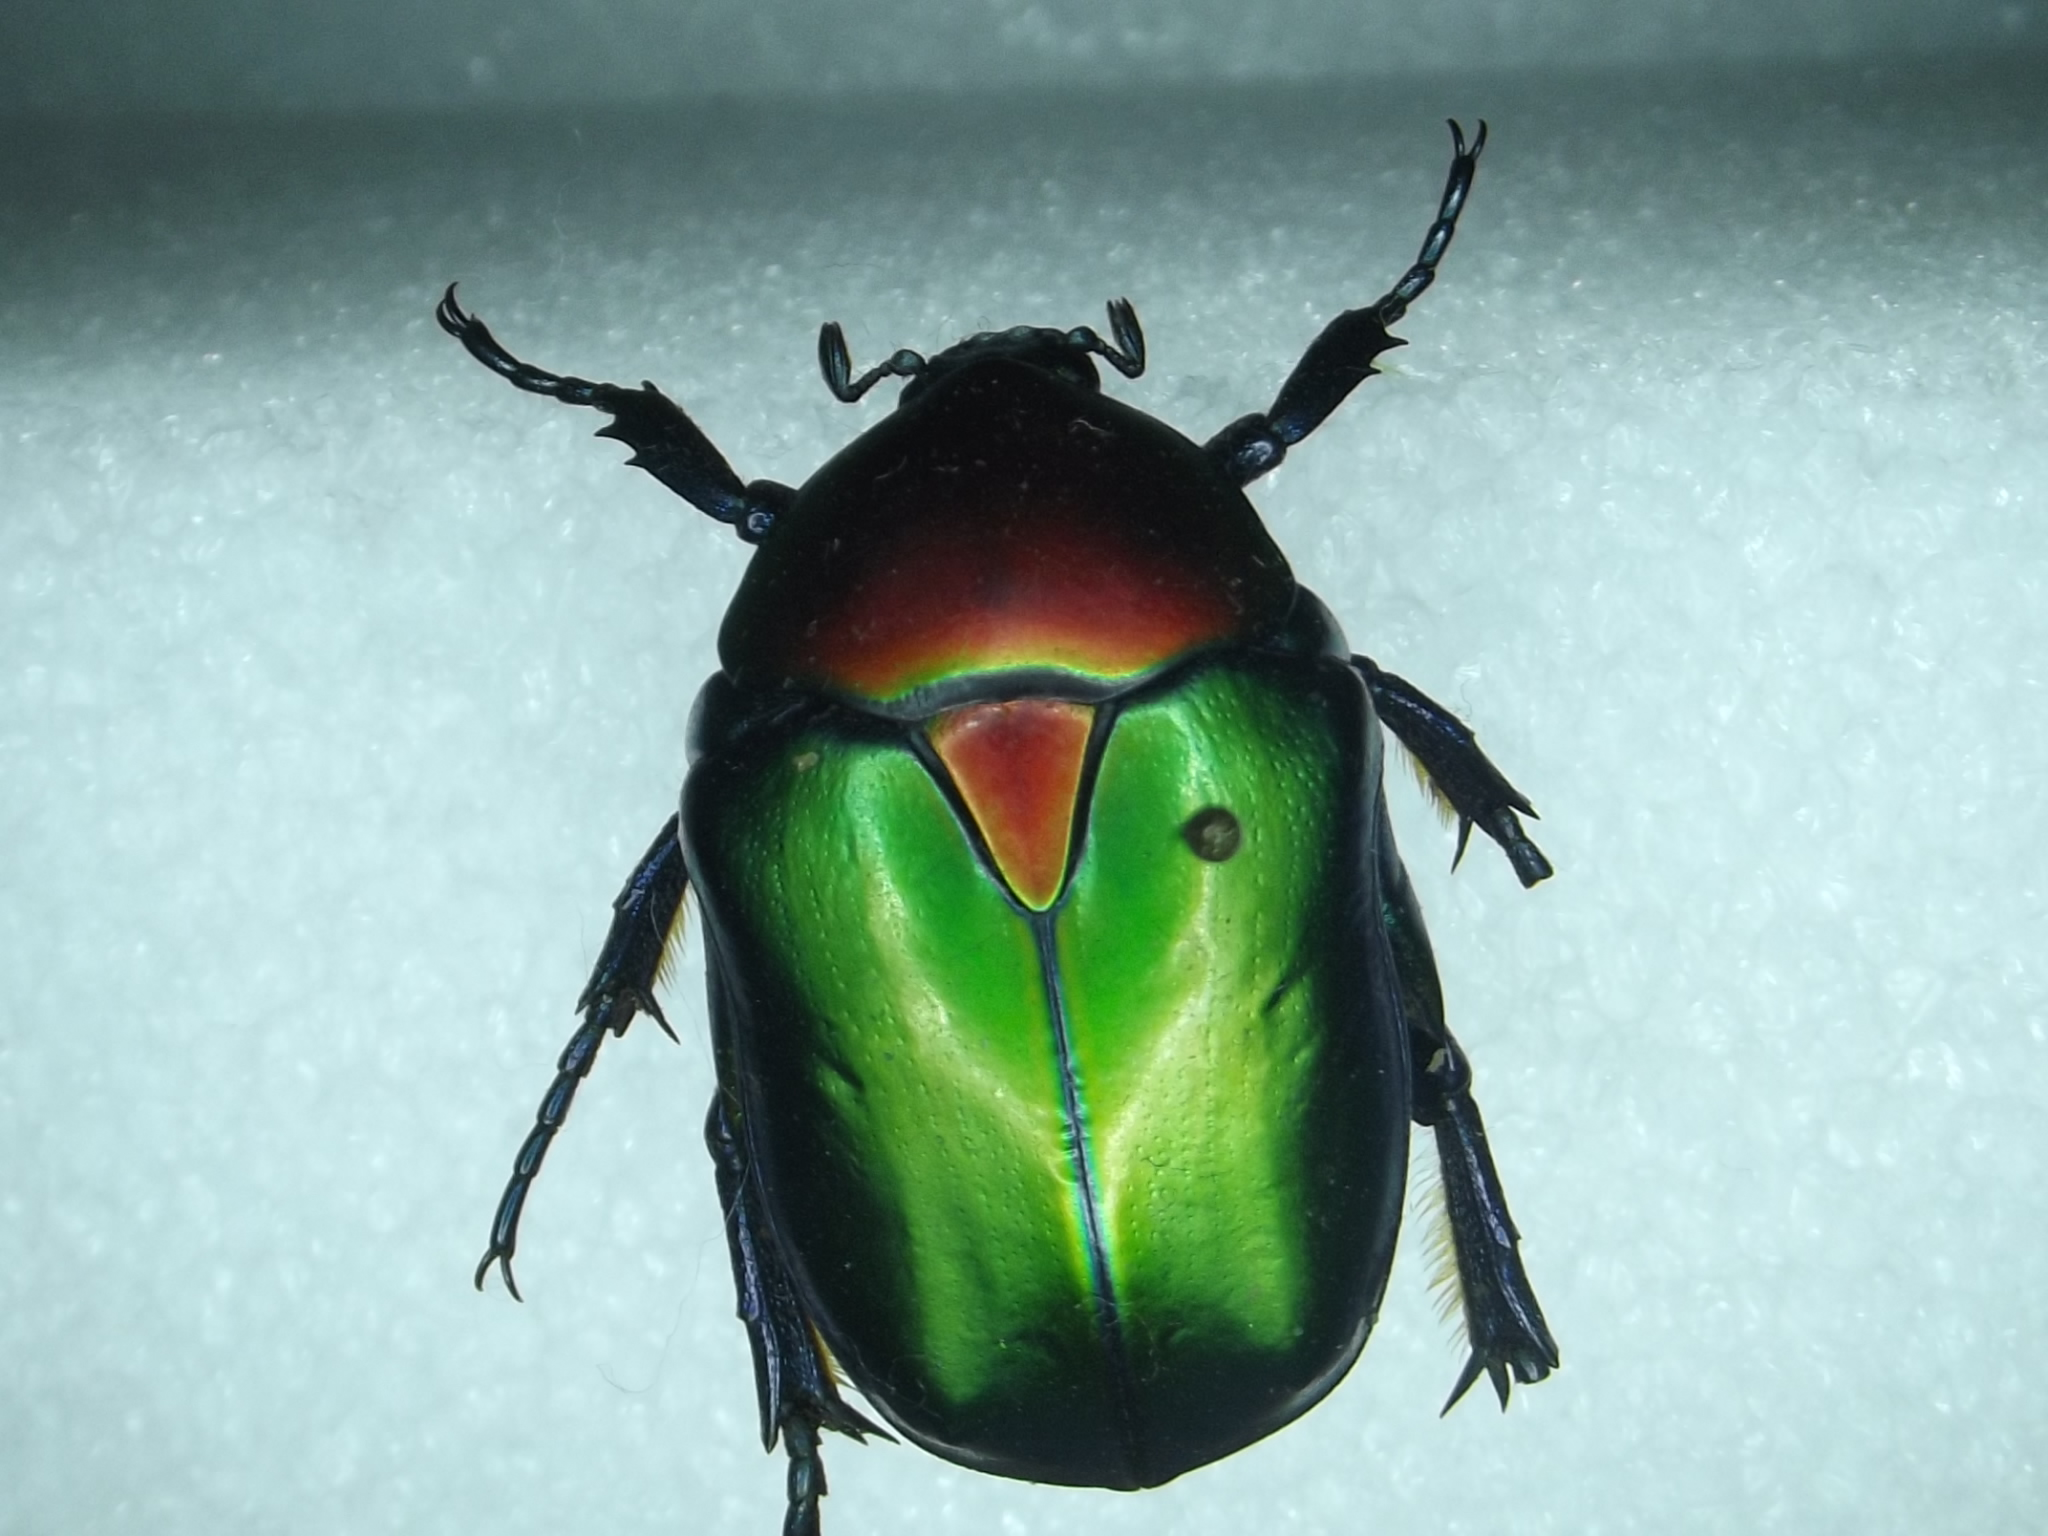Protaetia_speciosa_jousseliniw: (385, 94, 1588, 1536)
